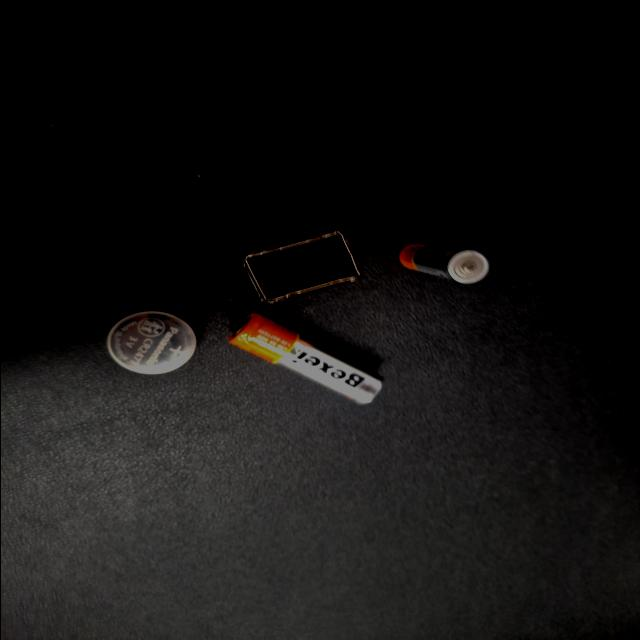9V: (236, 182, 332, 270)
AA: (101, 171, 223, 285)
AAA: (262, 300, 316, 366)
COIN: (140, 79, 226, 147)
